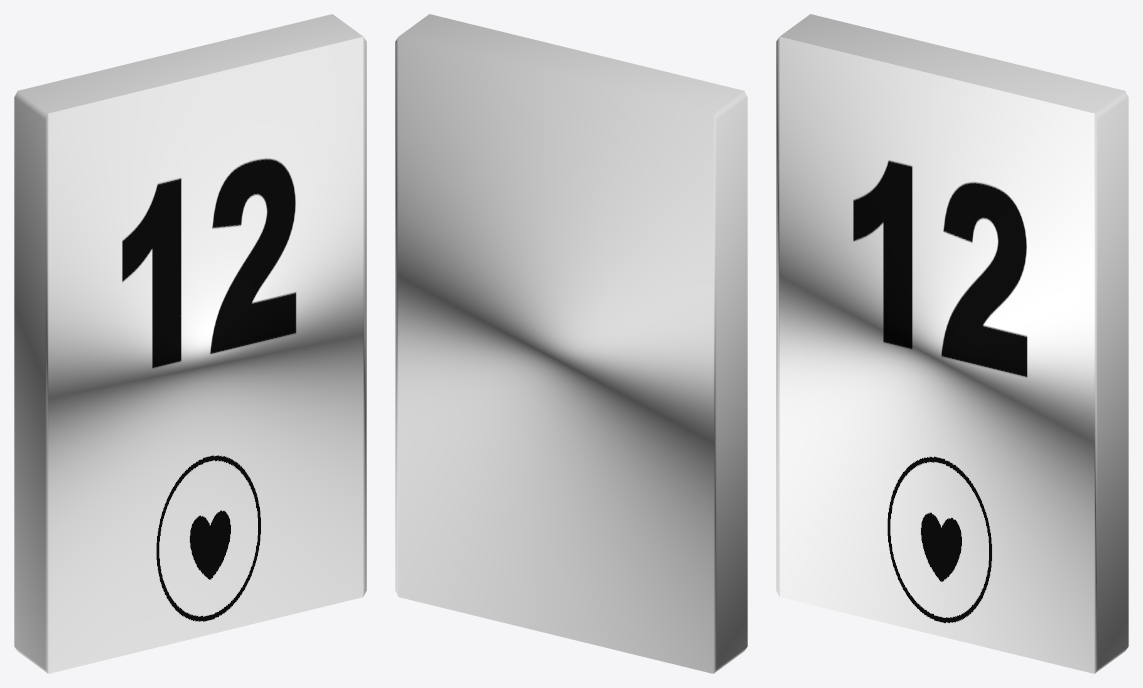
Rendered from okey_tasi.glb.
The picture shows the model from 3 angles, left to right: view 1: azimuth 30°, elevation 25°; view 2: azimuth 150°, elevation 25°; view 3: azimuth 330°, elevation 25°; orthographic projection.
Parts seen in each view (by area): view 1: Cube (22); view 2: Cube (22); view 3: Cube (22).
Boxes of the visible parts, box(x1,y1,x2,y2) form: Cube (22): box(14, 14, 366, 673); Cube (22): box(395, 14, 747, 673); Cube (22): box(776, 14, 1128, 673).
Bounding box in the file's own units: 0.6 × 1 × 0.1.
Materials: 2 (1 with a texture image).
